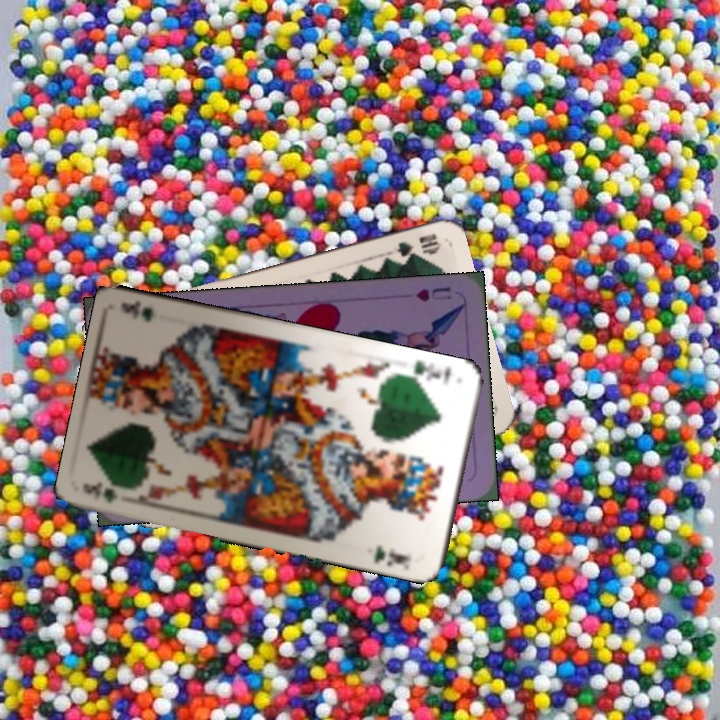G10: (392, 229, 444, 260)
GK: (400, 356, 453, 388), (79, 478, 140, 505)
HU: (412, 283, 454, 305)
